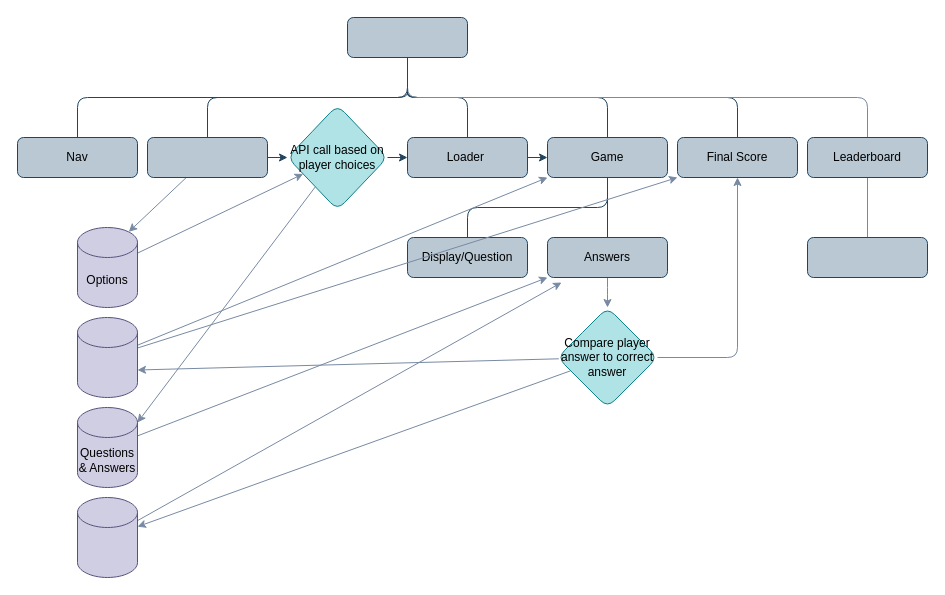
Image size: 945x595. Some labels were removed from this diagram. Here are the shapes that lost their labels. From the top down, the box of each, then its label:
(346, 16, 468, 58): App
(146, 136, 268, 178): Home/Wellcome
(806, 236, 928, 278): Player
(76, 316, 138, 398): Score
(76, 496, 138, 578): Current Streak
